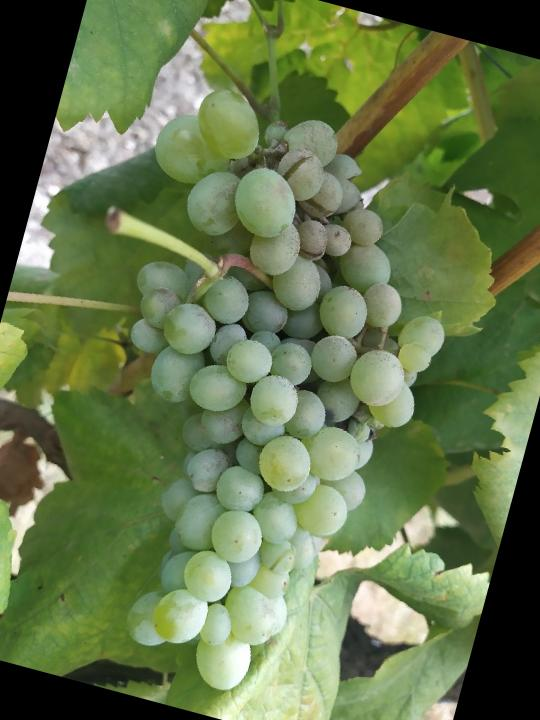grape: (19, 71, 496, 720)
